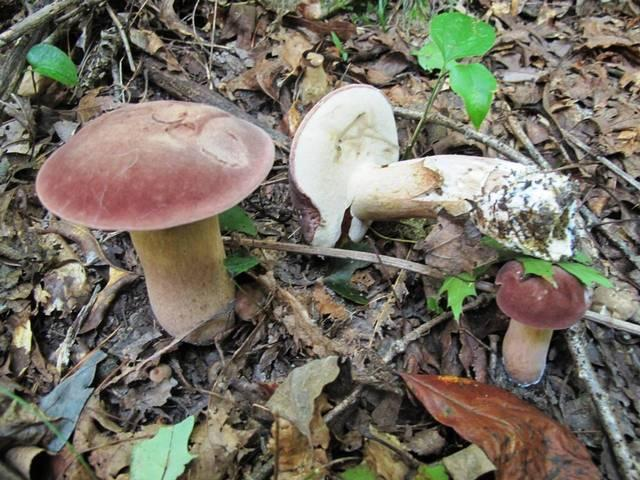Non-edible Mushroom: (294, 73, 600, 278), (34, 98, 275, 346), (491, 248, 607, 396)
